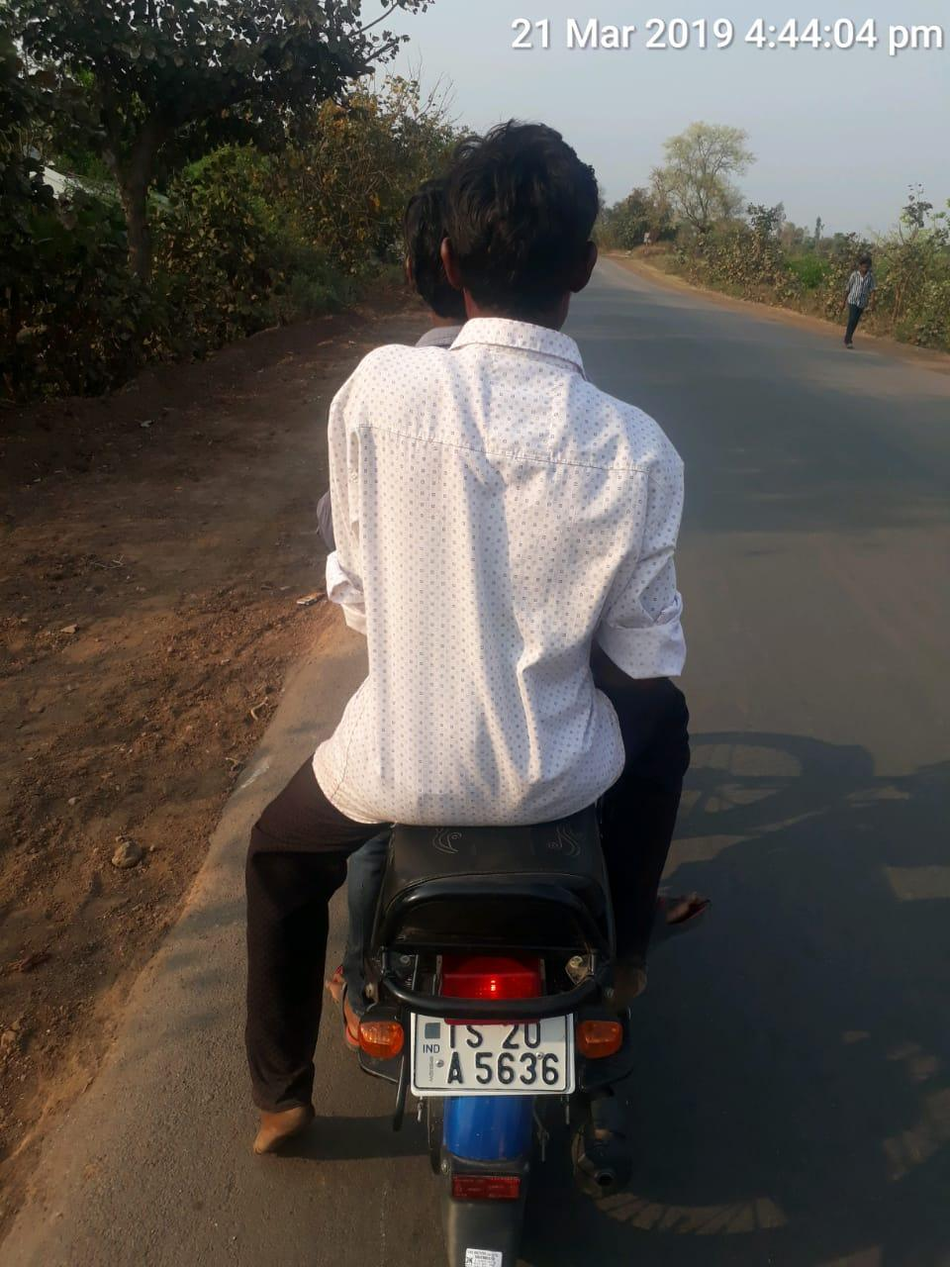without_helmet: (189, 65, 733, 1267)
